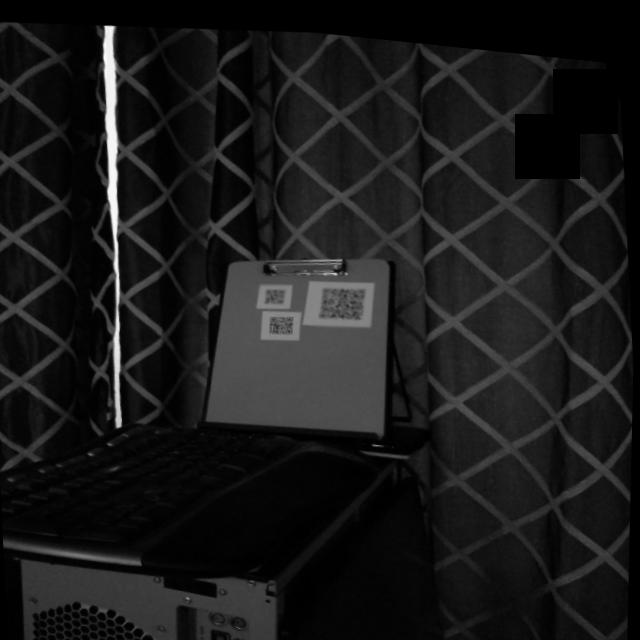QR_CODE: (312, 270, 374, 325), (262, 304, 301, 337), (258, 275, 289, 304)
